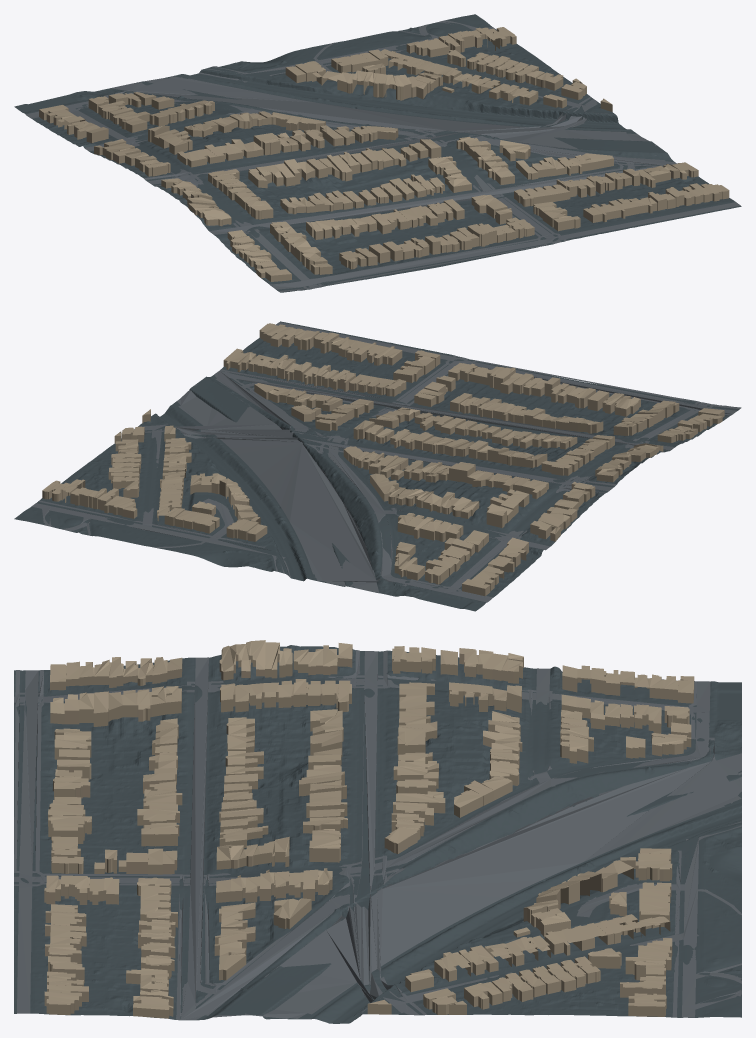
The model's file is epsg26910-1429-10874.lod0.glb.
3 views of the same model, one above another, from view 1: azimuth 30°, elevation 25°; view 2: azimuth 150°, elevation 25°; view 3: azimuth 270°, elevation 25° (orthographic). The views are drawn at different scales.
Parts seen in each view (by area): view 1: epsg26910-1429-10874-lod0; view 2: epsg26910-1429-10874-lod0; view 3: epsg26910-1429-10874-lod0.
Boxes of the visible parts, bbox=[...] form: epsg26910-1429-10874-lod0: bbox=[14, 14, 741, 292]; epsg26910-1429-10874-lod0: bbox=[14, 321, 741, 611]; epsg26910-1429-10874-lod0: bbox=[14, 640, 741, 1023].
Bounding box in the file's own units: 384 × 44.88 × 384.
